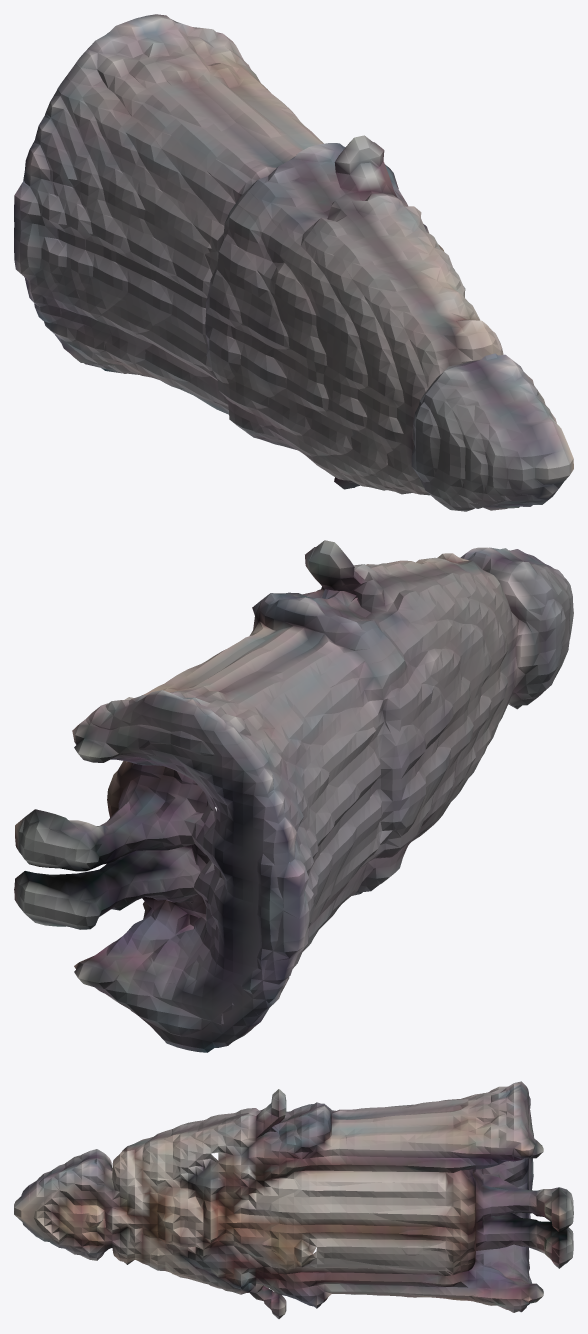
File: medieval_merchant_f_0.glb
The picture shows the model from 3 angles, top to bottom: view 1: azimuth 30°, elevation 25°; view 2: azimuth 150°, elevation 25°; view 3: azimuth 270°, elevation 25°; orthographic projection. The views are drawn at different scales.
Visible parts, largest first — view 1: world; view 2: world; view 3: world.
Part boxes in pixels (<box>): world: <box>14,14,573,511</box>; world: <box>14,540,573,1052</box>; world: <box>14,1081,573,1318</box>.
Bounding box in the file's own units: 0.3433 × 0.4612 × 1.01.
